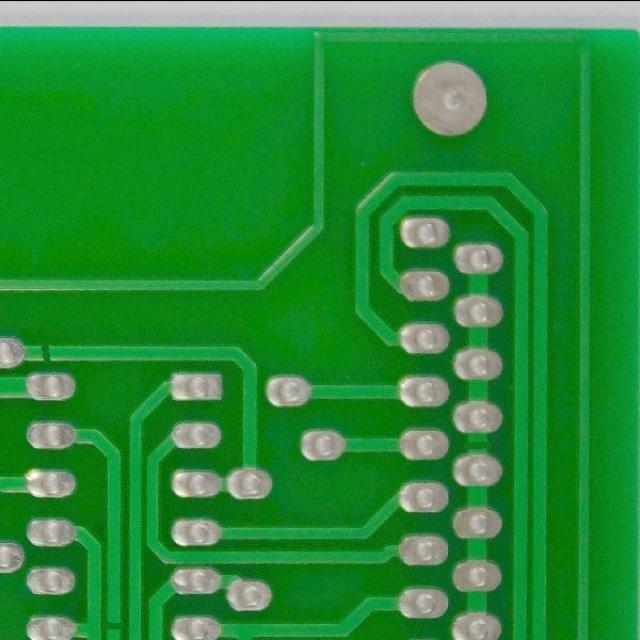open_circuit: (460, 431, 497, 460), (34, 338, 58, 370), (100, 615, 125, 639)
